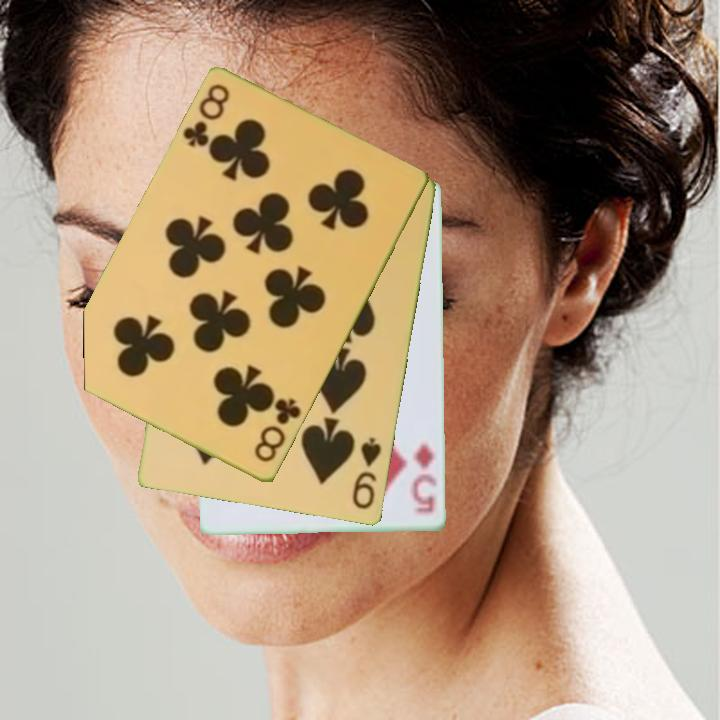5d: (410, 440, 440, 516)
8c: (179, 80, 233, 151), (251, 395, 304, 466)
9s: (349, 434, 385, 513)
